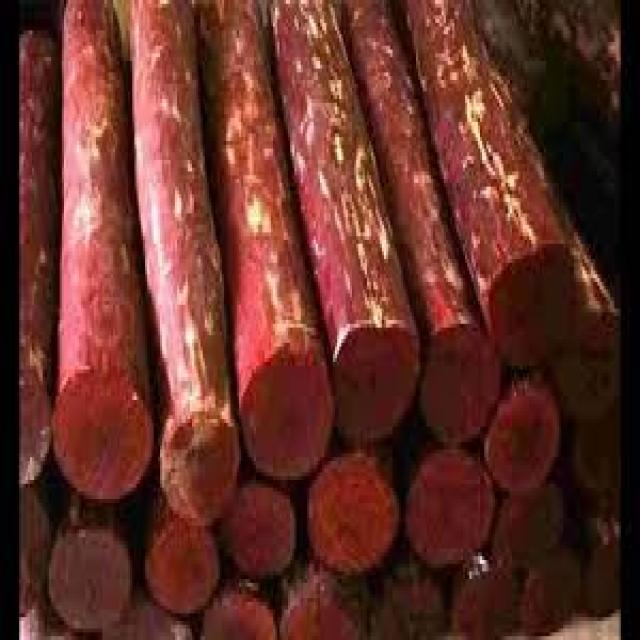Sandalwood: (57, 26, 637, 640)
